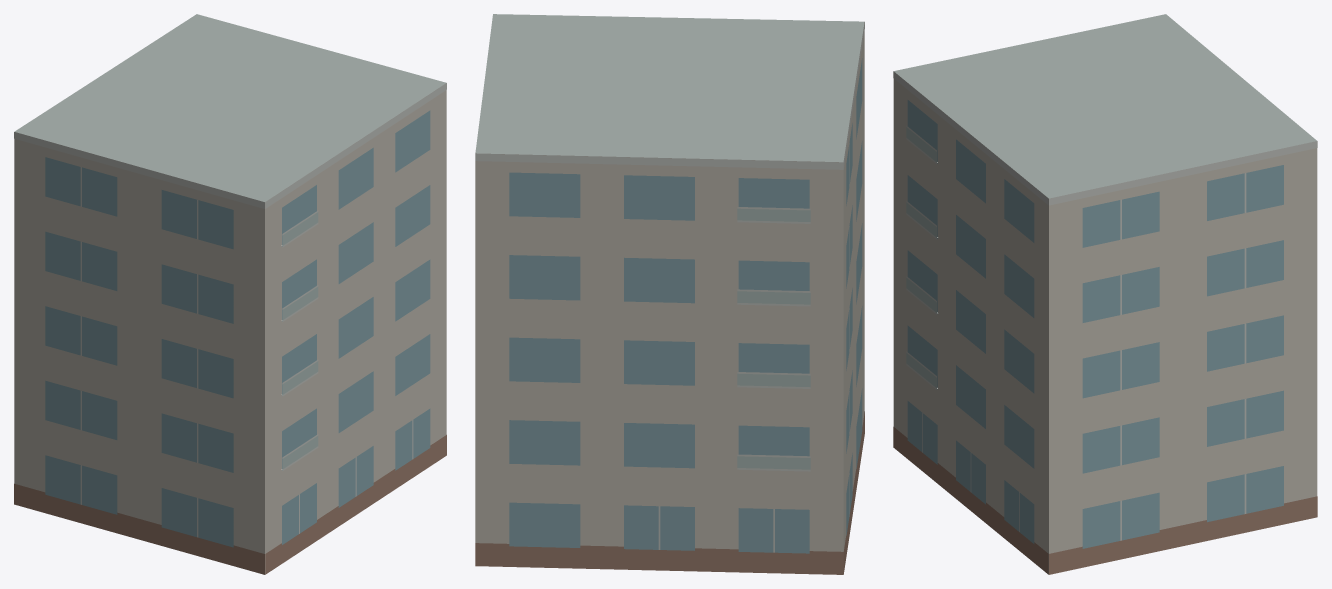
The model's file is survey-upis-32841246.glb.
3 renders of one model, left to right at view 1: azimuth 30°, elevation 25°; view 2: azimuth 150°, elevation 25°; view 3: azimuth 270°, elevation 25°, orthographic. The views are drawn at different scales.
Visible parts, largest first — view 1: survey-upis-32841246.tmp; view 2: survey-upis-32841246.tmp; view 3: survey-upis-32841246.tmp.
Part boxes in pixels (x1,y1,x2,y2): survey-upis-32841246.tmp: (14,14,446,574); survey-upis-32841246.tmp: (475,14,864,574); survey-upis-32841246.tmp: (893,14,1317,574).
Bounding box in the file's own units: 13.79 × 13.1 × 13.38.
